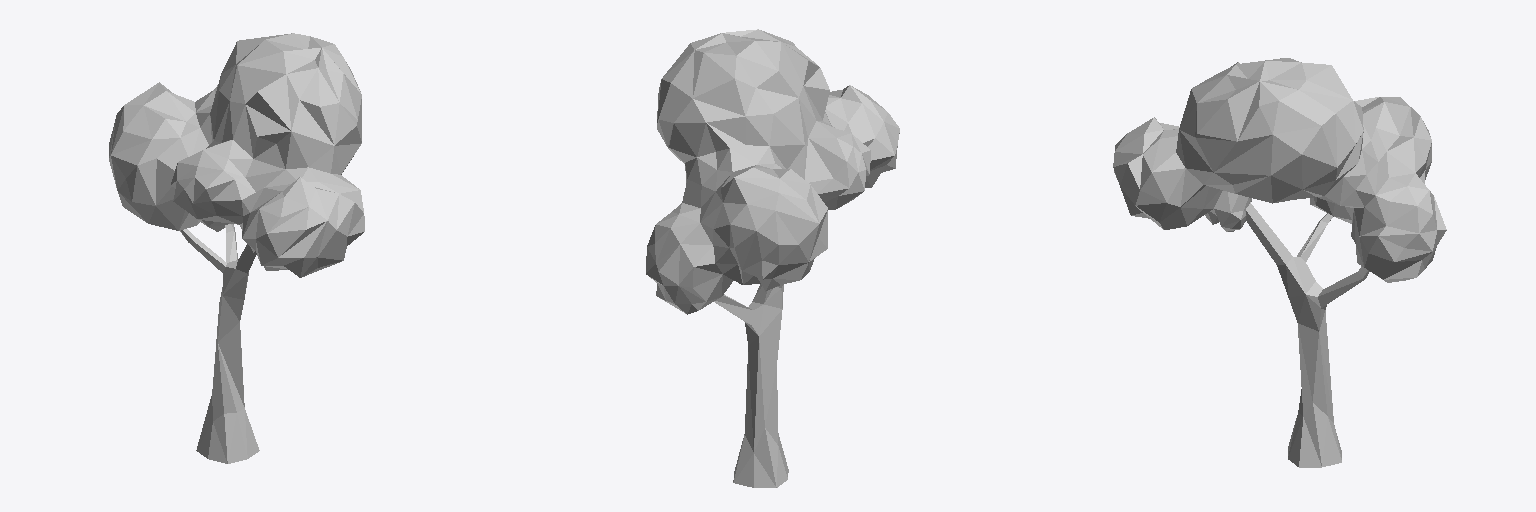
Rendered from tree2.obj.
3 renders of one model, left to right at view 1: azimuth 30°, elevation 25°; view 2: azimuth 150°, elevation 25°; view 3: azimuth 270°, elevation 25°, orthographic.
Parts seen in each view (by area): view 1: _3_tree; view 2: _3_tree; view 3: _3_tree.
Boxes of the visible parts, <box> form: _3_tree: <box>109,33,364,463</box>; _3_tree: <box>646,29,899,487</box>; _3_tree: <box>1113,58,1446,467</box>.
Size of the model in its own units: 0.7953 by 1.58 by 1.17.